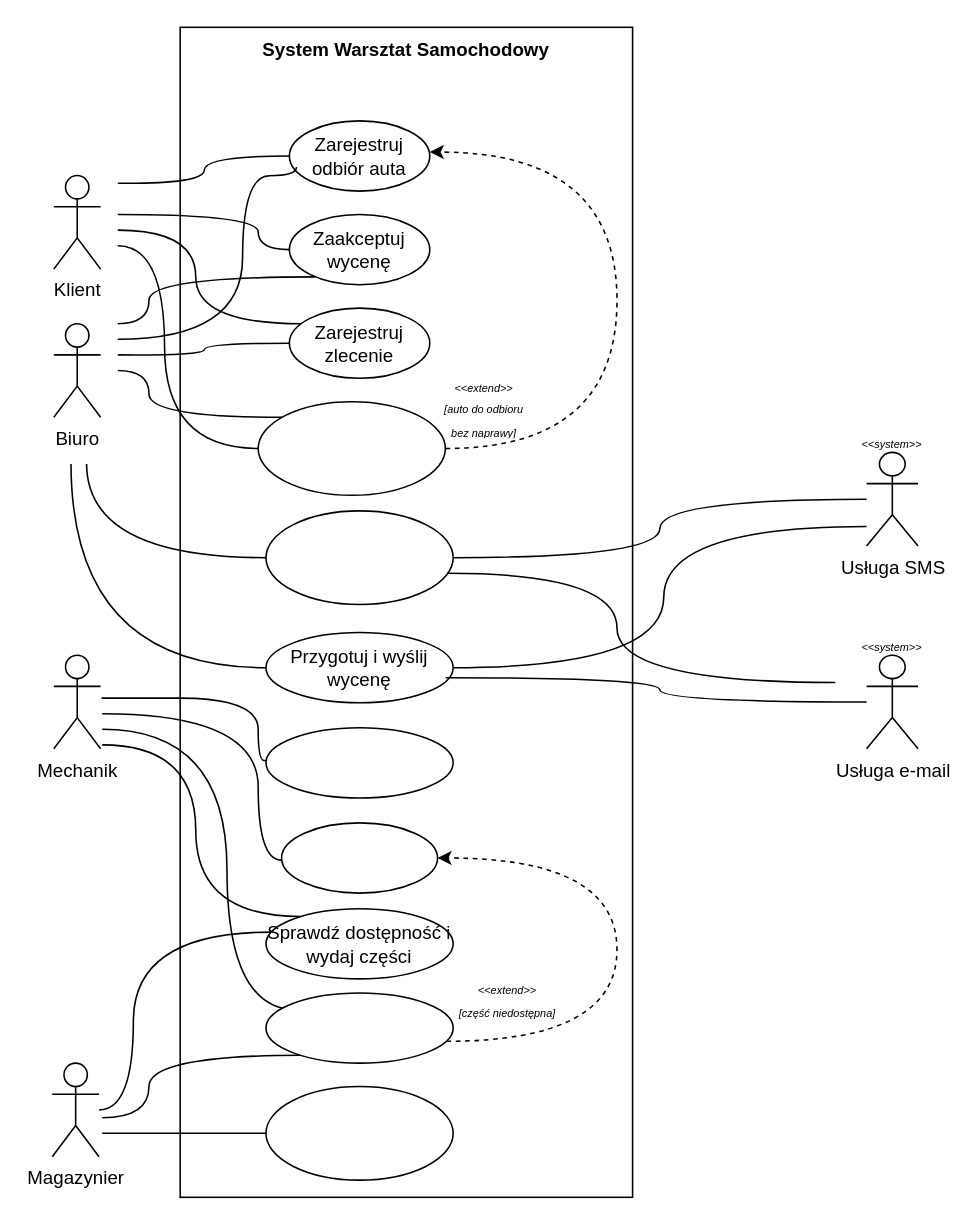
The diagram is 977 pixels wide and 1225 high, and some of its shapes have lost their labels. The box of each missing label's shape, as (x1, y1, x2, y2) in pixels:
Odrzuć wycenę i anuluj zlecenie: (257, 400, 445, 495)
Oznacz wykonanie naprawy: (264, 726, 453, 798)
Powiadom klienta o gotowości auta: (264, 509, 453, 604)
Zamów brakującą część i przyjmij dostawę: (264, 1085, 453, 1180)
Zapisz wynik diagnozy: (280, 821, 438, 893)
Zgłoś części do naprawy: (264, 991, 453, 1063)
